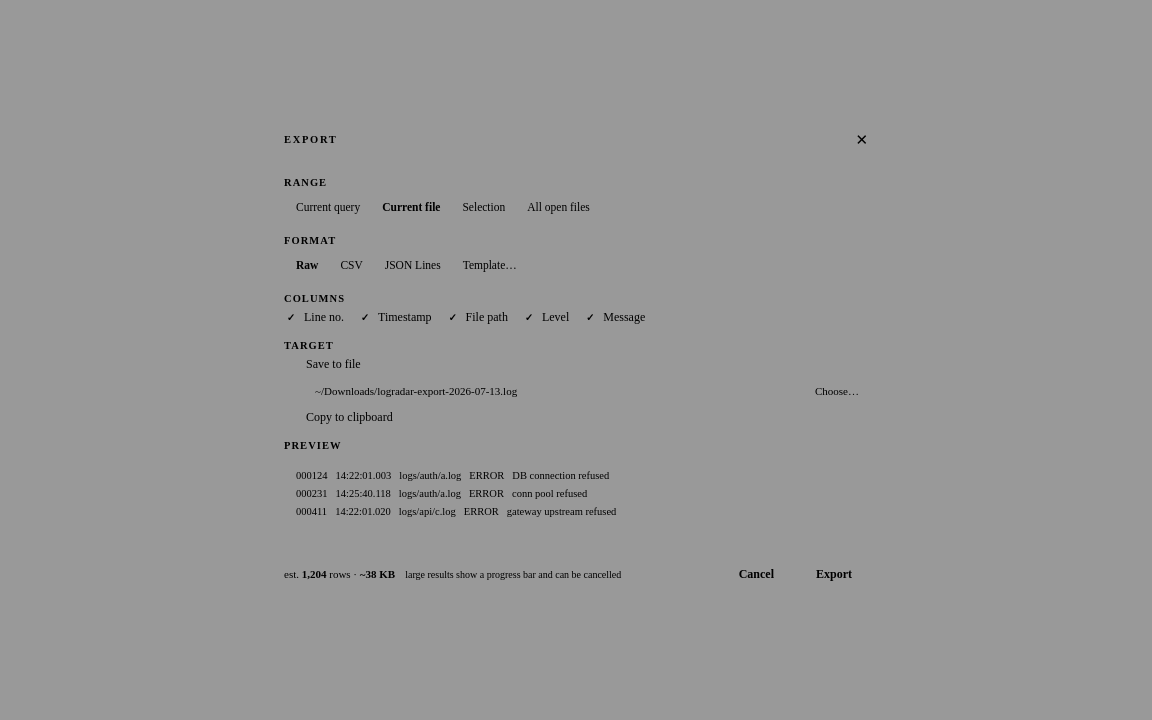
Scenario: ExportDialog › preview reflects the selected columns (toggling File path off removes it)
expect the element with test id "export-preview" shows "logs/auth/a.log": met, box 399,470 -> 461,481
uncheck File path → the path disappears from every preview line
Click the checkbox labelled "File path": (477, 318) 446,310 -> 508,325
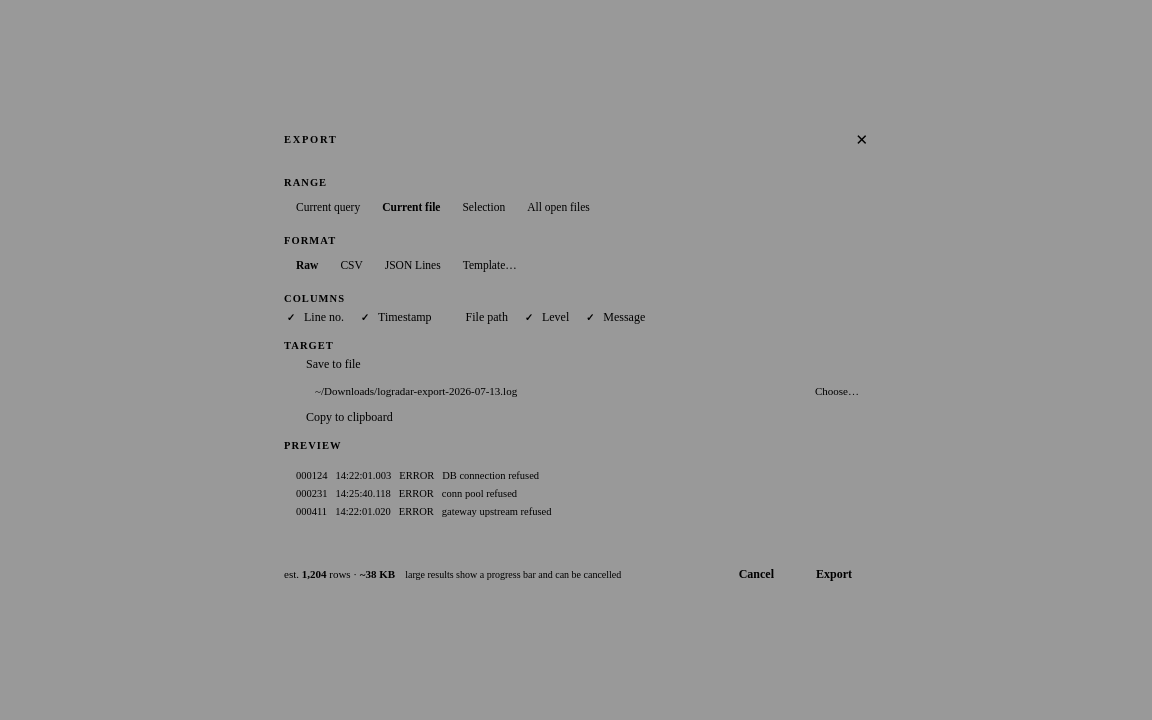
expect the text with test id "export-preview" no longer shows "logs/auth/a.log": met
re-check → it comes back
Click the checkbox labelled "File path": (477, 318) 446,310 -> 508,325
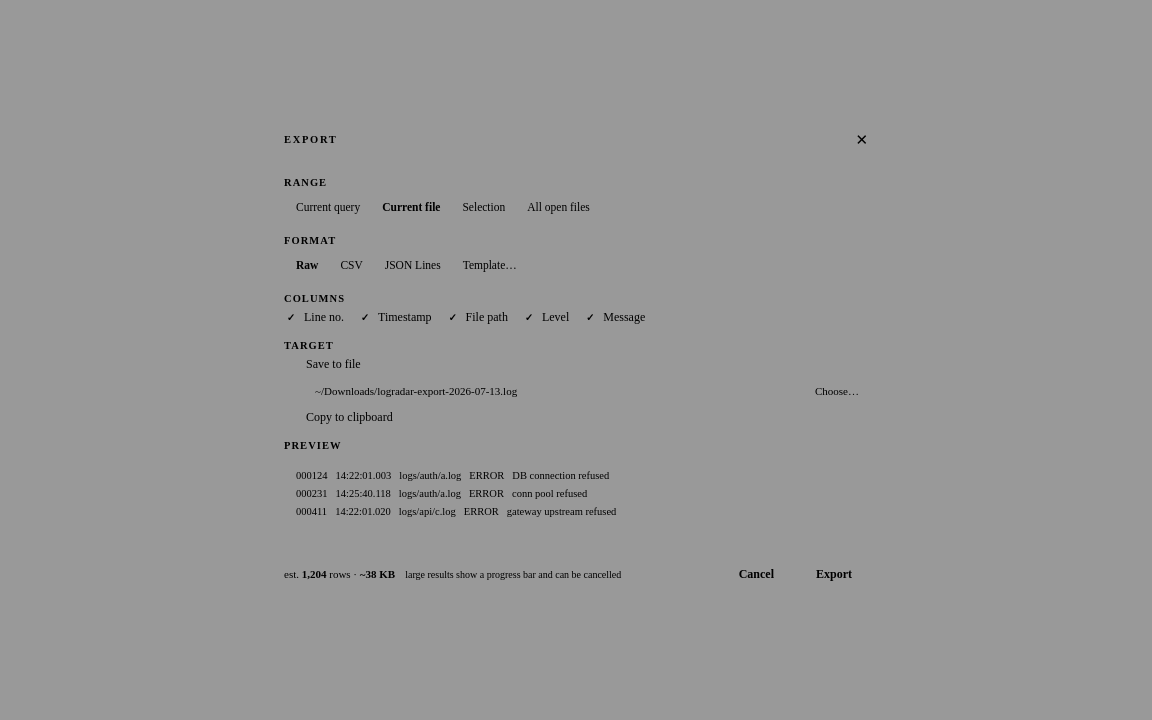
expect the element with test id "export-preview" shows "logs/auth/a.log": met, box 399,470 -> 461,481
